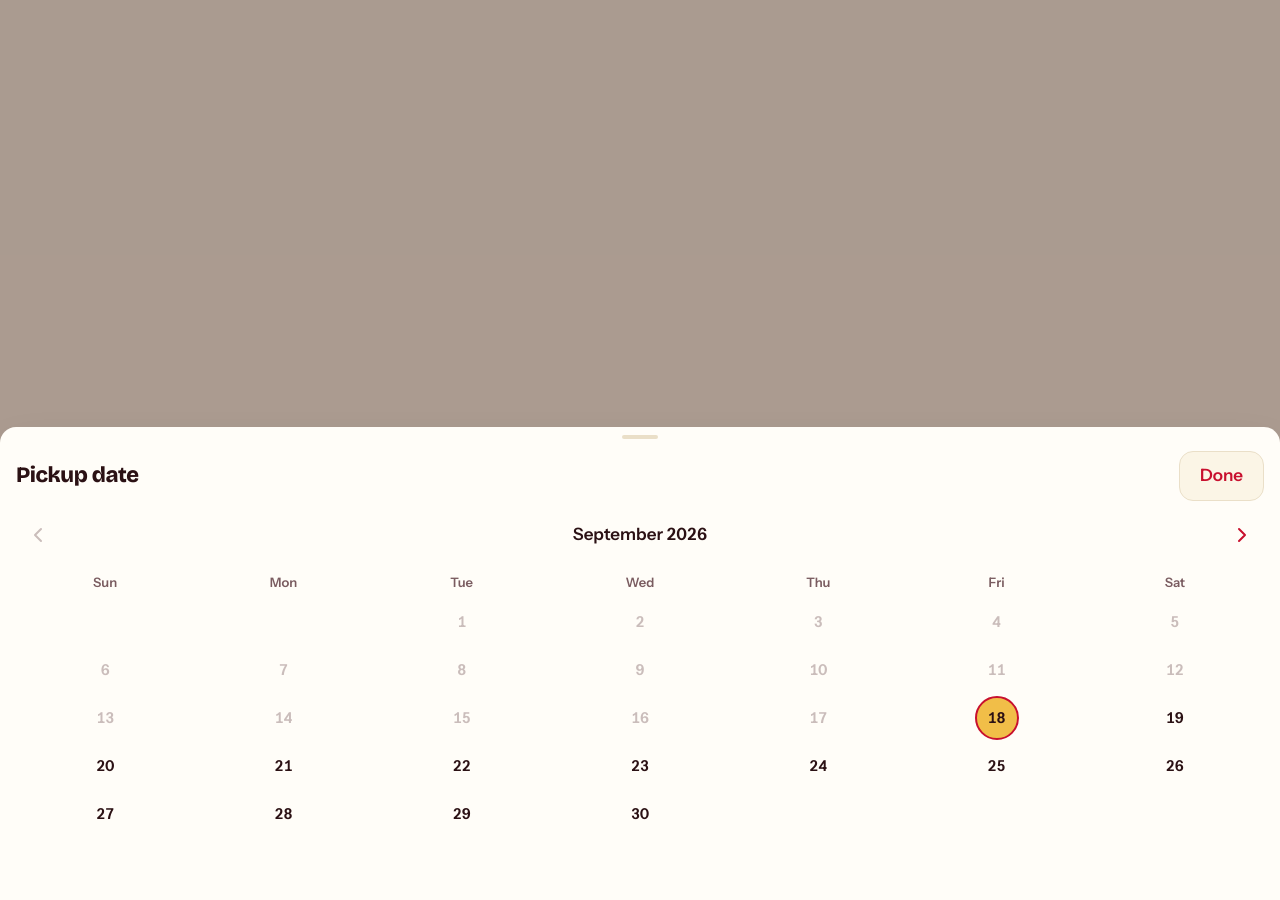
Test: DateSheet › cannot go before the current month but can go forward and back
What coordinates should you click on to do the following:
click the button named "Next month"
I would click on:
 (1242, 534)
Its box is [1220,512,1264,556].
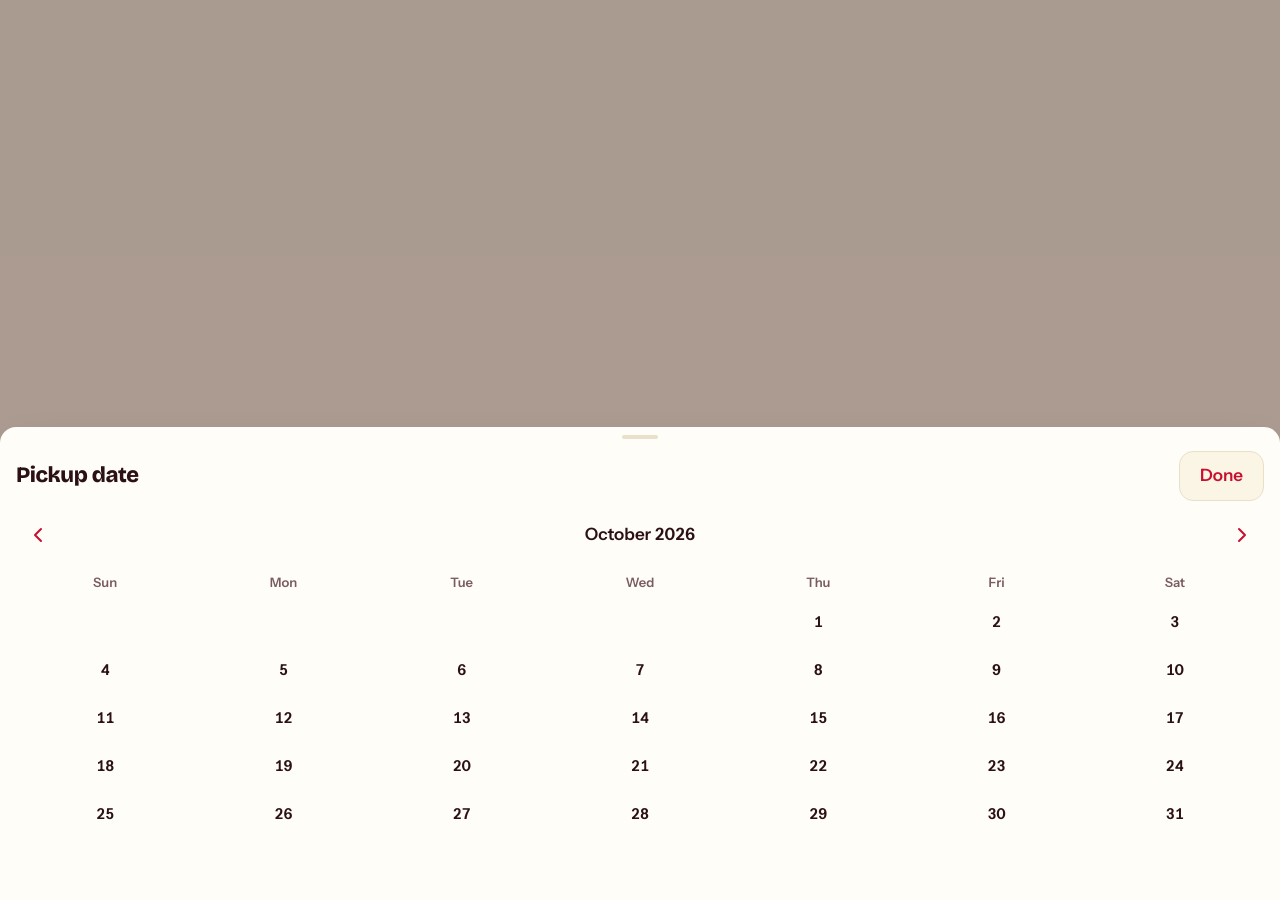
Expected: the heading "October 2026" is shown, [585,522,695,547]
What coordinates should you click on to do the following:
click the button named "Previous month"
I would click on:
 (38, 534)
Its box is [16,512,60,556].
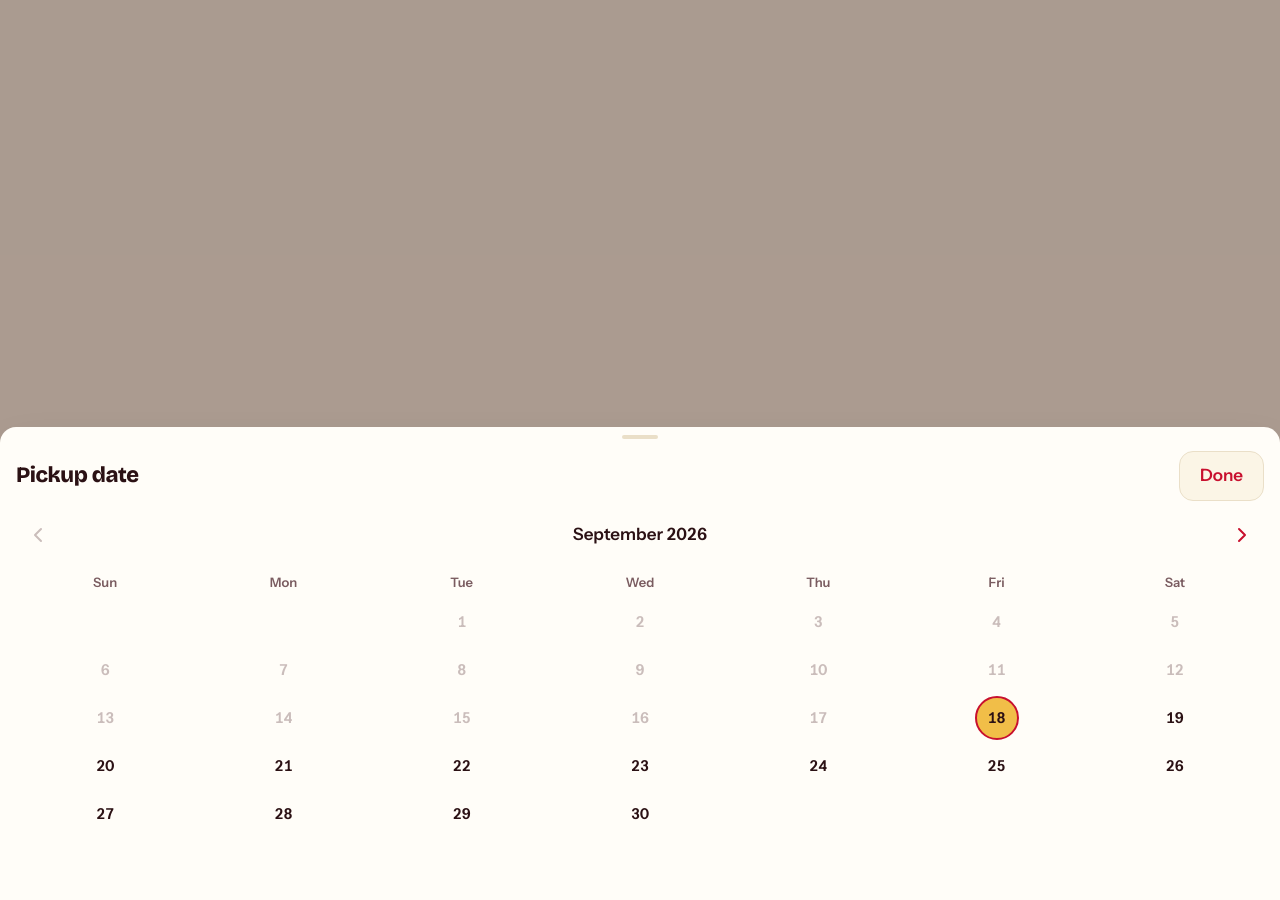
Expected: the heading "September 2026" is shown, [573,522,707,547]
